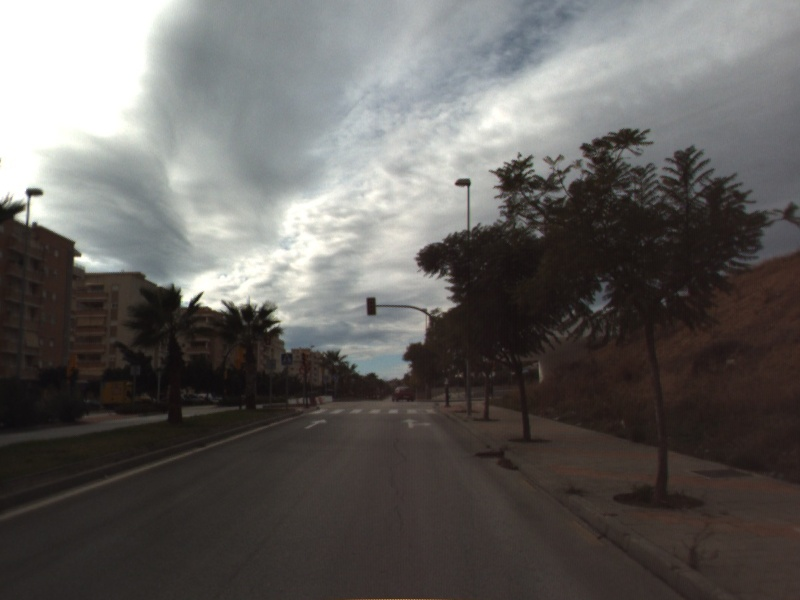STRAIGHT: (302, 417, 329, 431)
STRAIGHT_RIGHT: (400, 416, 433, 430)
